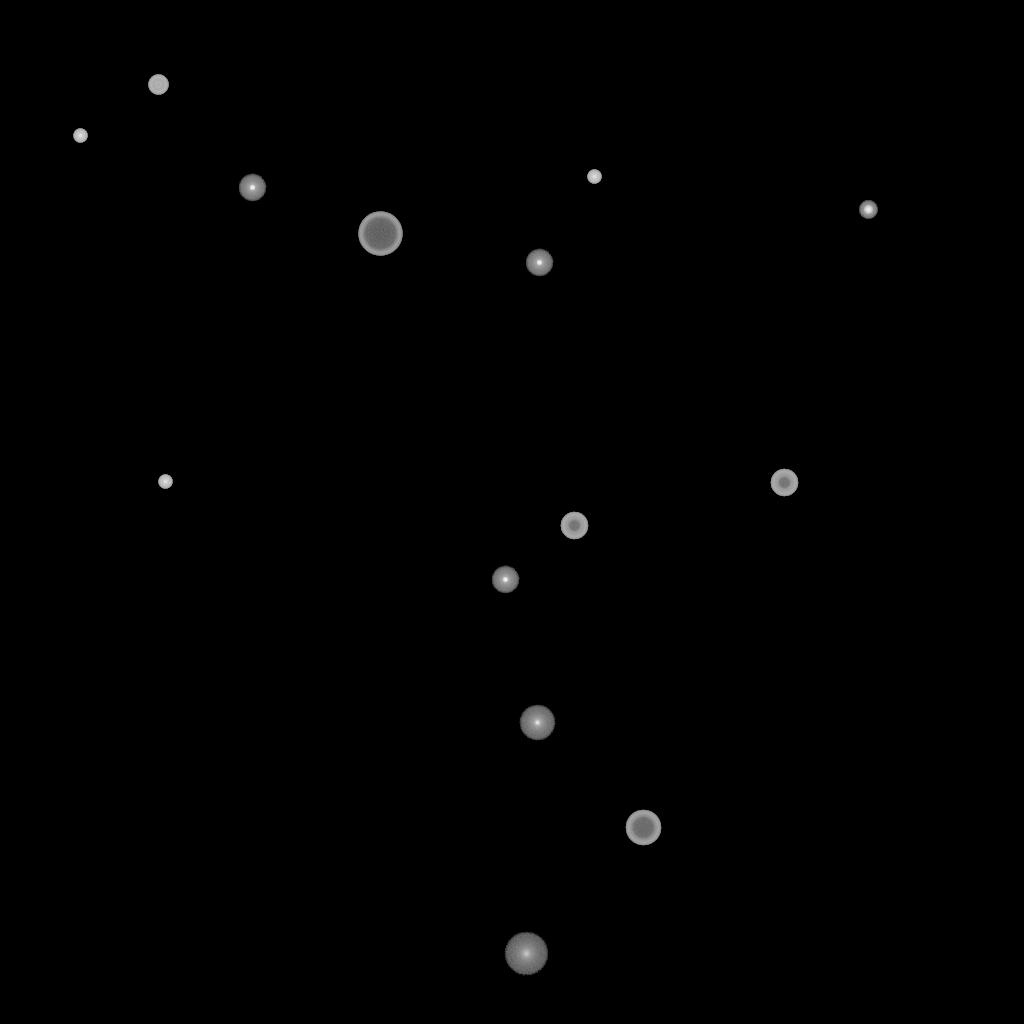depth:-10: (238, 174, 266, 202), (525, 249, 553, 277), (491, 566, 519, 594)
depth:-20: (859, 201, 877, 219)
depth:-30: (158, 475, 172, 489), (73, 129, 87, 143), (587, 170, 601, 184)
depth:-40: (148, 75, 168, 95)
depth:-50: (770, 469, 798, 497), (560, 512, 588, 540)
depth:-60: (625, 810, 661, 846)
depth:-70: (358, 212, 402, 256)
depth:0: (519, 705, 555, 741)
depth:10: (504, 932, 548, 976)
